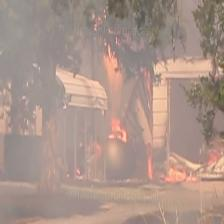fire: (100, 43, 202, 198)
